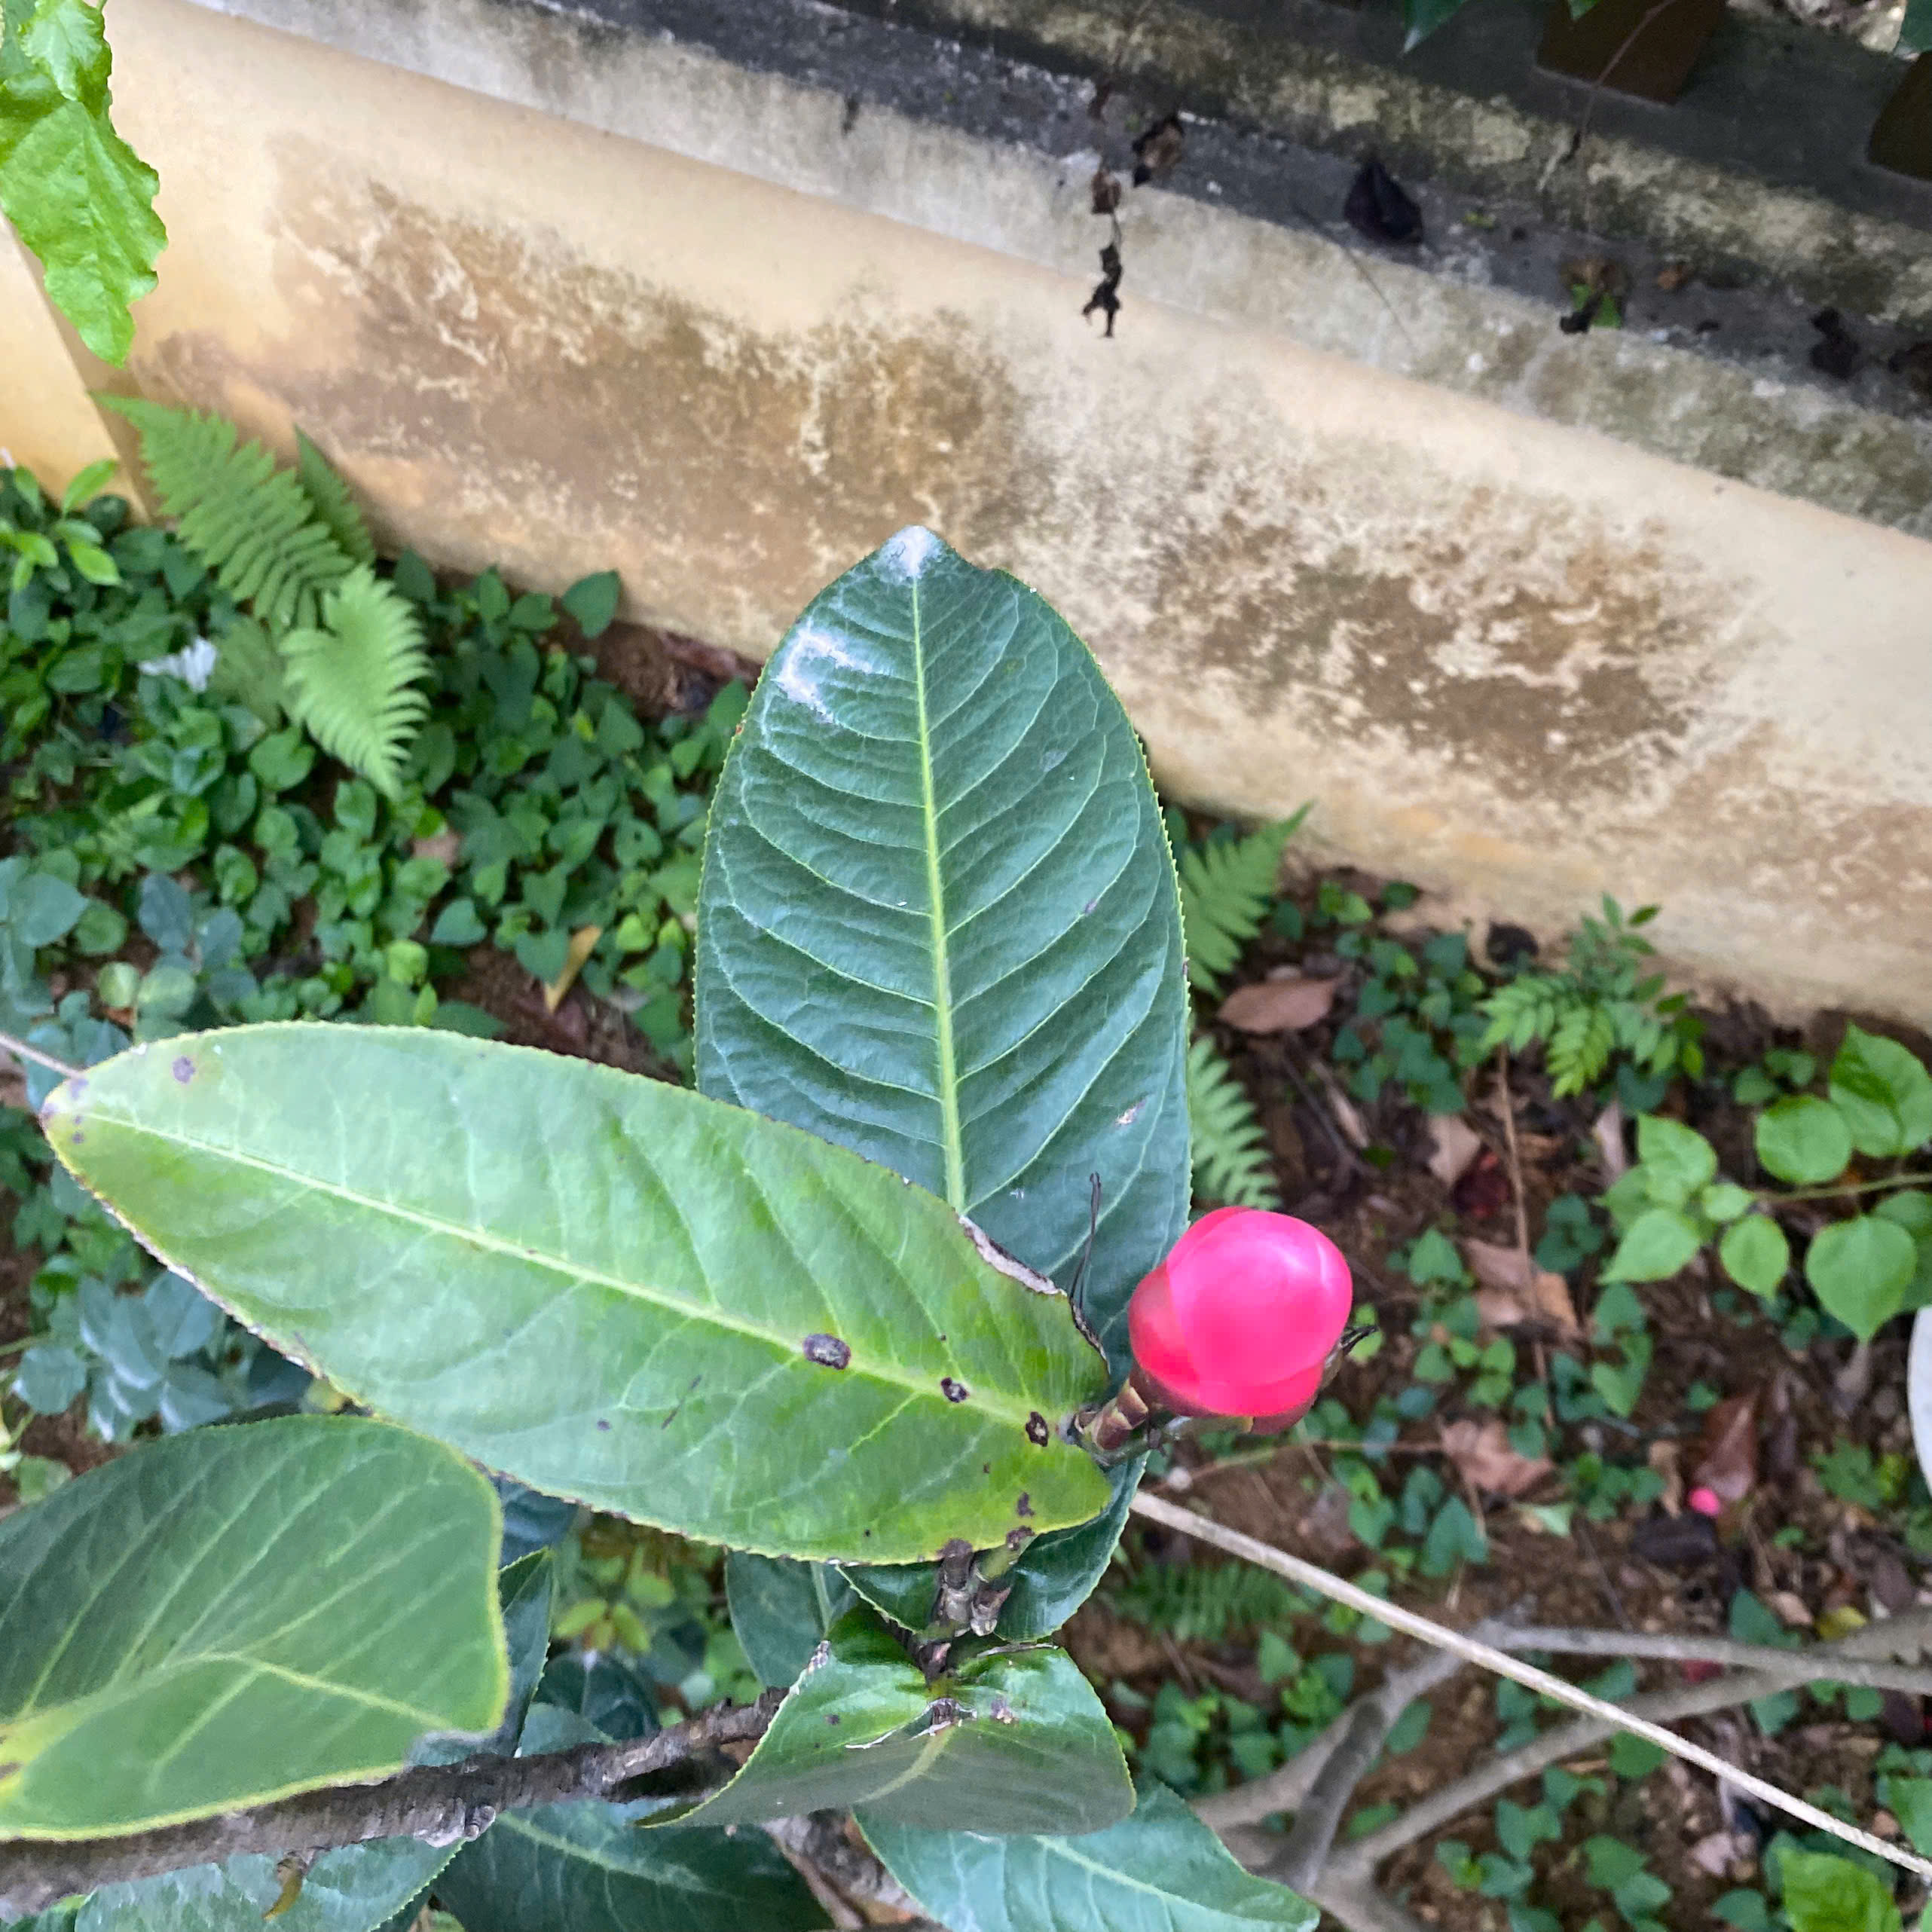hoa_hai_duong: (0, 485, 1422, 1877)
